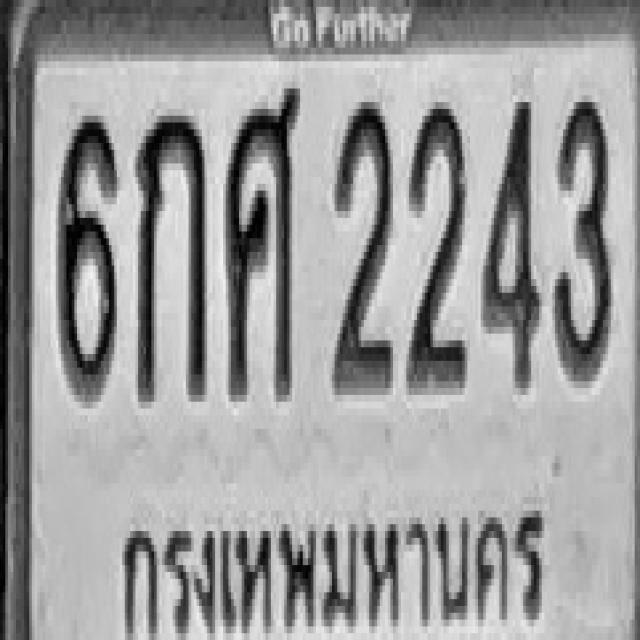10GorGai: (137, 109, 206, 402)
2: (332, 95, 393, 388), (406, 102, 465, 388)
3: (554, 96, 610, 382)
4: (481, 95, 539, 388)
47SorSala: (224, 82, 299, 395)
6: (58, 109, 117, 395)
Bangkok: (115, 504, 552, 640)
